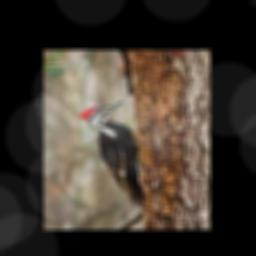Woodpecker: (80, 101, 144, 208)
